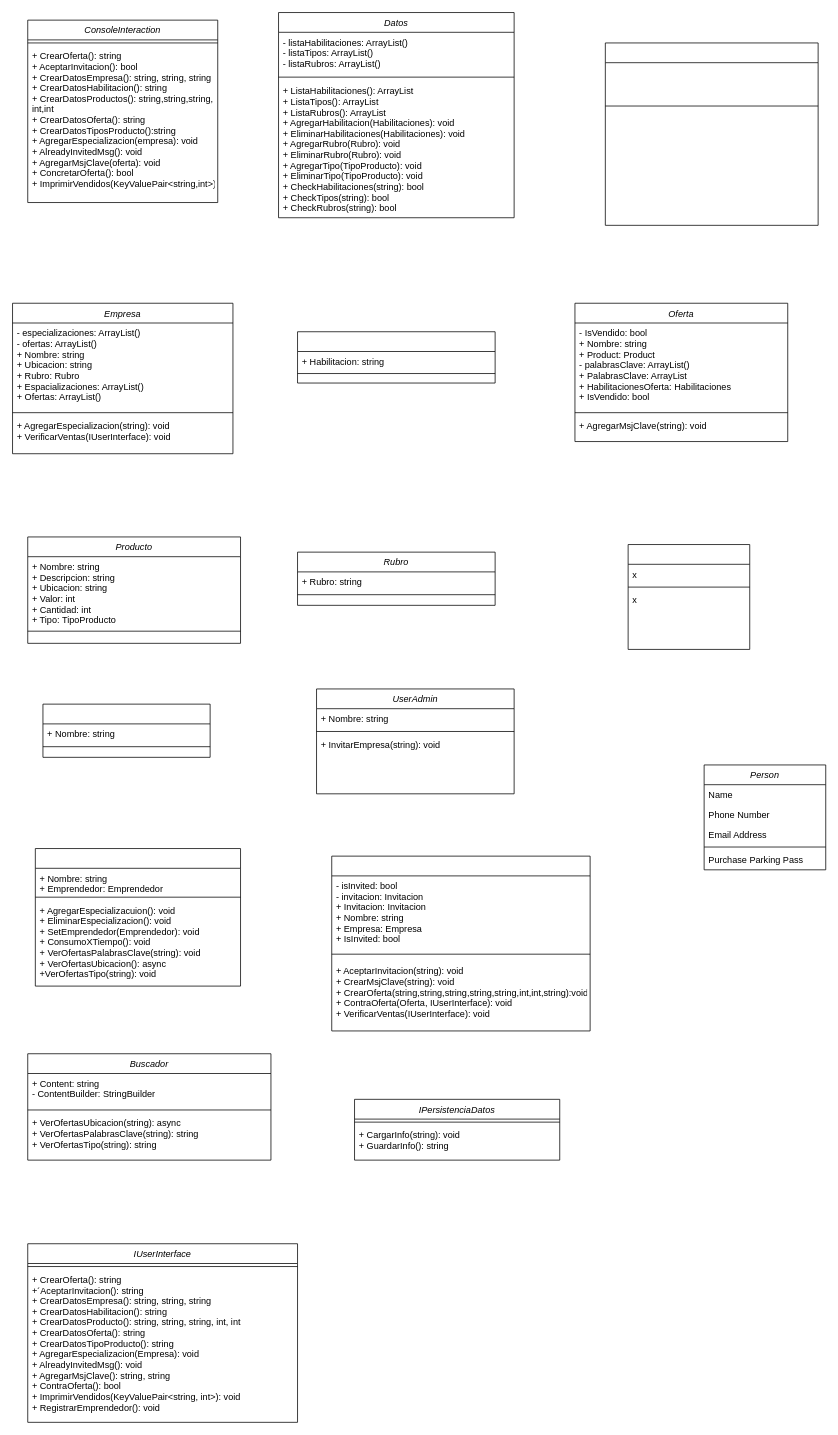
The diagram is 838 pixels wide and 1435 high, and some of its shapes have lost their labels. Here are the shapes that lost their labels. From the top down, the box of each, then its label:
(605, 42, 818, 225): Emprendedor
(297, 331, 495, 383): Habilitaciones
(627, 544, 750, 649): Singleton
(42, 703, 210, 757): TipoProducto
(35, 848, 241, 986): UserEmprendedor
(331, 855, 590, 1031): UserEmpresa
